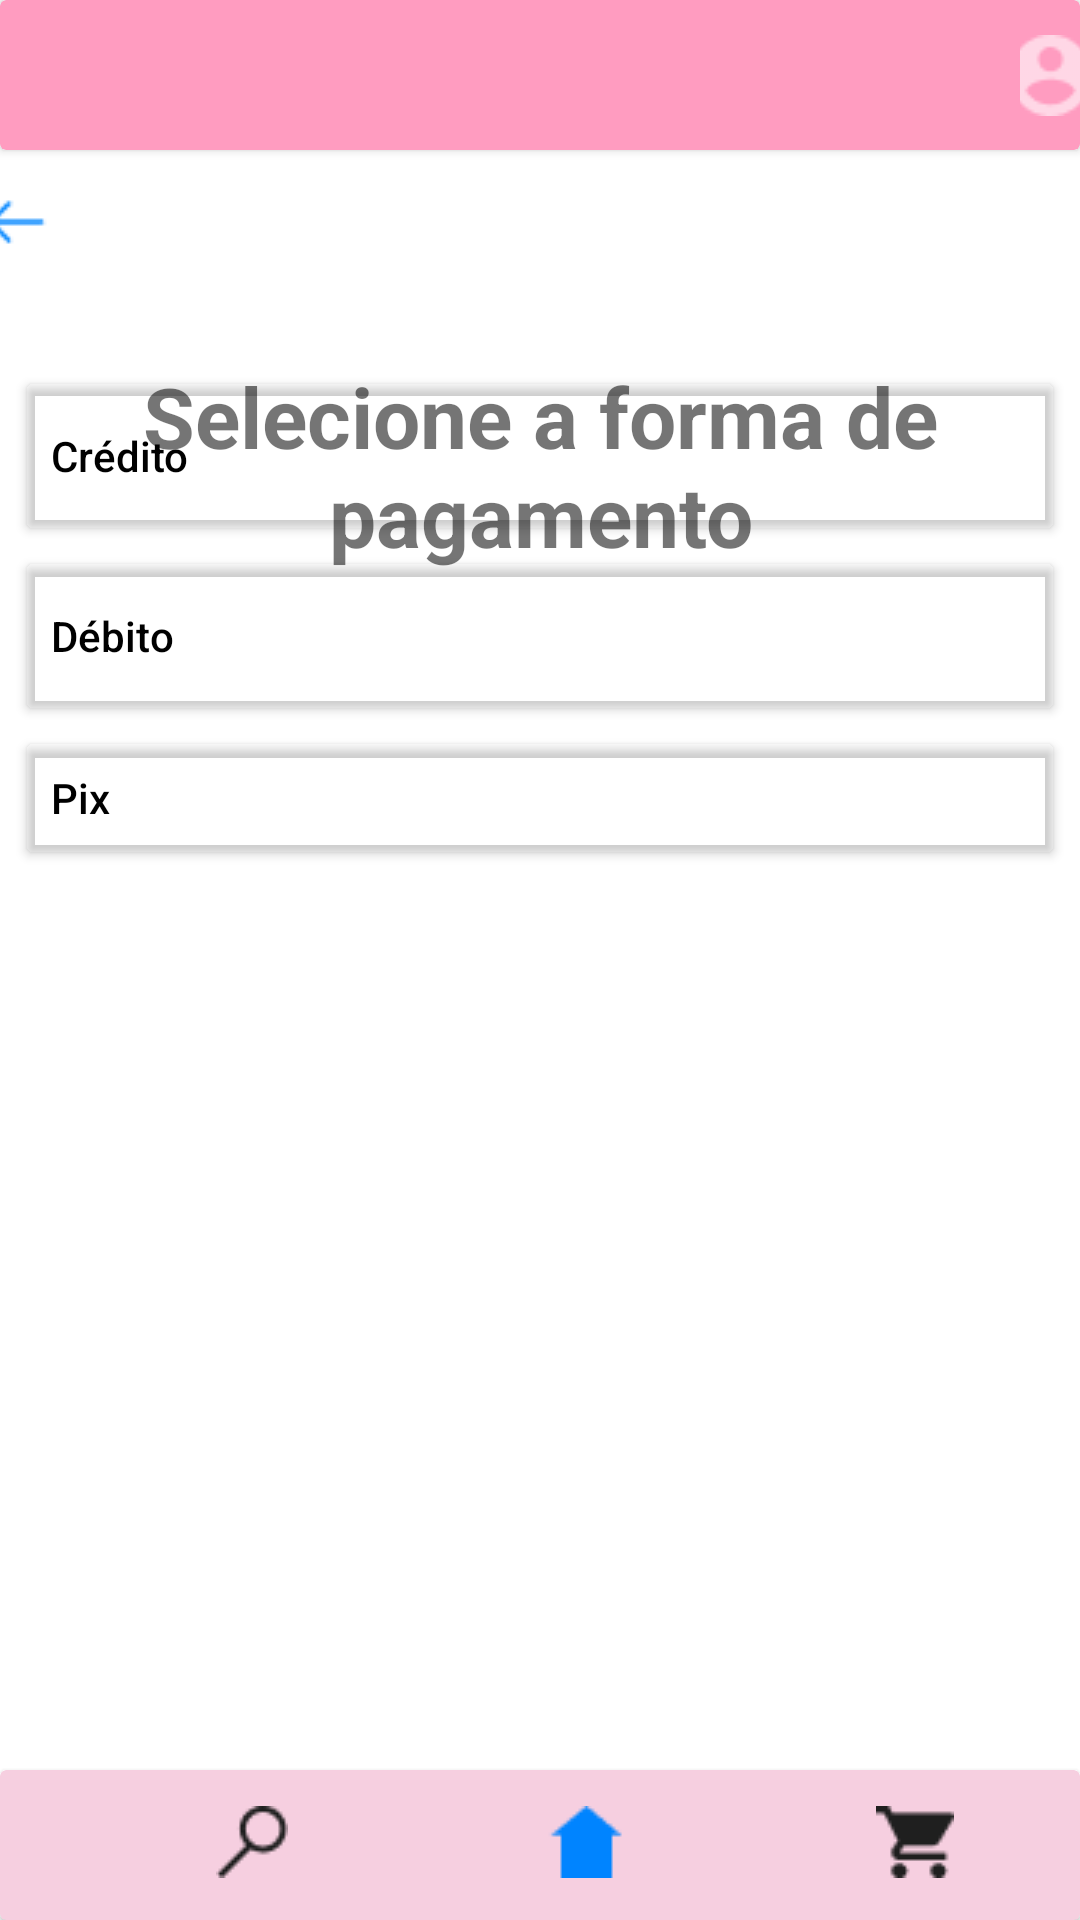

Screen size 1080 × 1920. Icon name, then its center in pixels as (x=x, y=y):
Carrinho: (x=915, y=1842)
Home: (x=586, y=1842)
Login: (x=1050, y=75)
Pesquisar: (x=252, y=1842)
